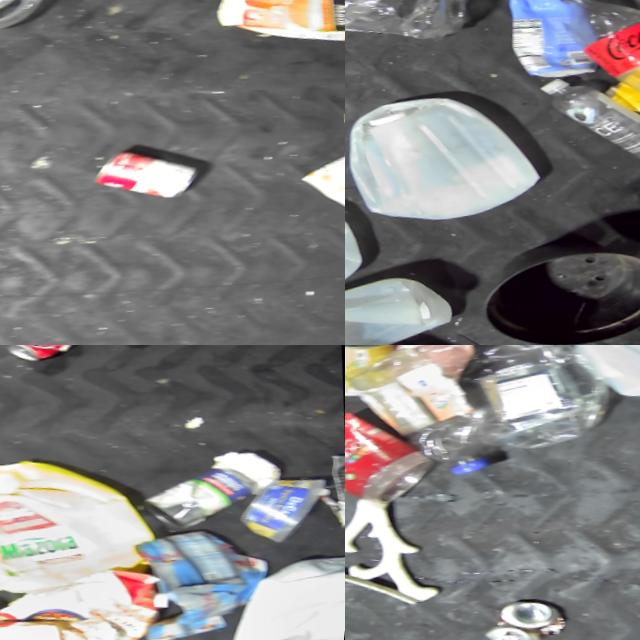can: (88, 121, 215, 204), (493, 584, 576, 640), (4, 345, 80, 357)
milk_jug: (345, 65, 566, 234), (0, 431, 164, 606), (225, 534, 345, 640), (345, 249, 477, 345)
plastic_bottle: (353, 356, 509, 494), (464, 345, 626, 459), (538, 0, 640, 131), (544, 49, 640, 177)
